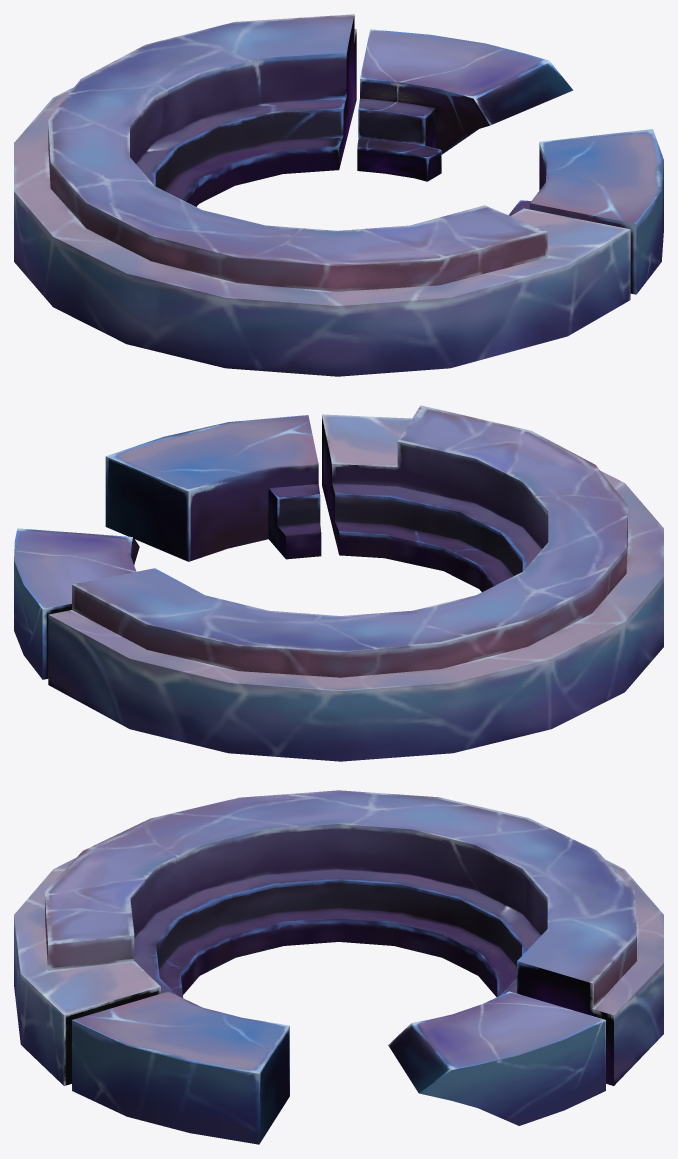
File: zhanxingtai_2.FBX
3 views of the same model, one above another, from view 1: azimuth 30°, elevation 25°; view 2: azimuth 150°, elevation 25°; view 3: azimuth 270°, elevation 25° (orthographic).
Visible parts, largest first — view 1: zhanxingtai_2; view 2: zhanxingtai_2; view 3: zhanxingtai_2.
Boxes of the visible parts, x1,y1,x2,y2 form: zhanxingtai_2: [14, 14, 663, 376]; zhanxingtai_2: [14, 405, 663, 761]; zhanxingtai_2: [14, 790, 663, 1144].
Bounding box in the file's own units: 74.01 × 12.13 × 74.12.
